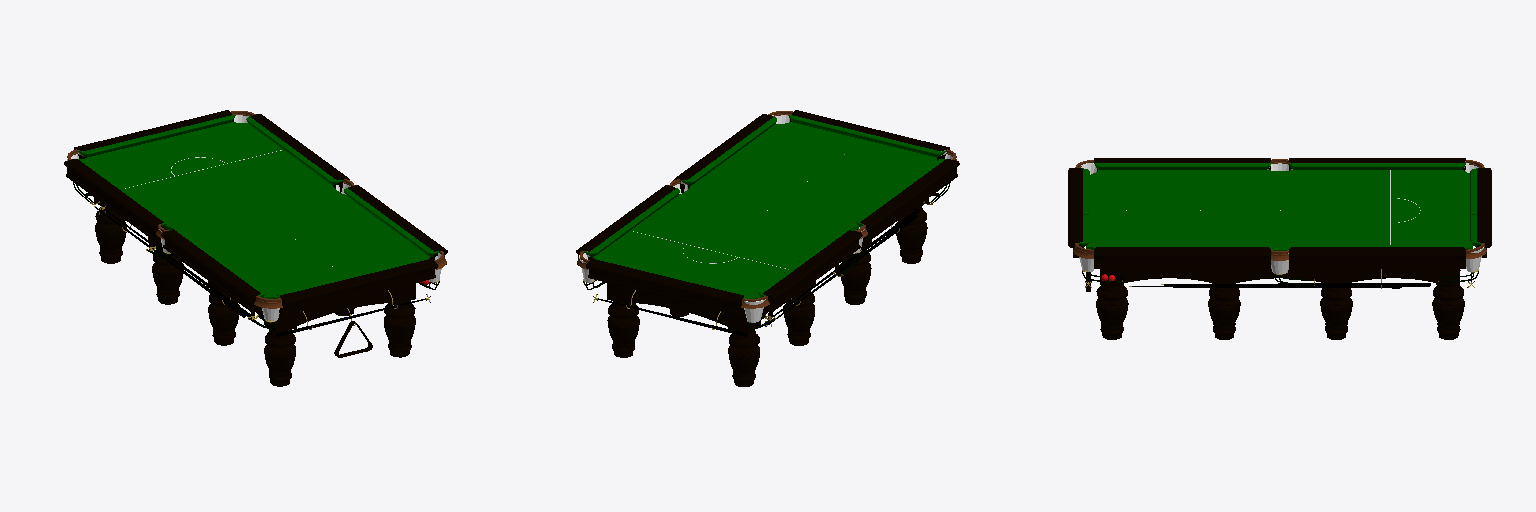
File: tabble.obj
3 renders of one model, left to right at view 1: azimuth 30°, elevation 25°; view 2: azimuth 150°, elevation 25°; view 3: azimuth 270°, elevation 25°, orthographic.
Parts seen in each view (by area): view 1: Table; view 2: Table; view 3: Table, spider_L.
Part boxes in pixels (left/top/right/bottom): Table: left=64, top=110, right=447, bottom=386; Table: left=576, top=110, right=959, bottom=386; Table: left=1068, top=158, right=1491, bottom=339; spider_L: left=1129, top=285, right=1401, bottom=288.
Bounding box in the file's own units: 4431 × 2168 × 8199.